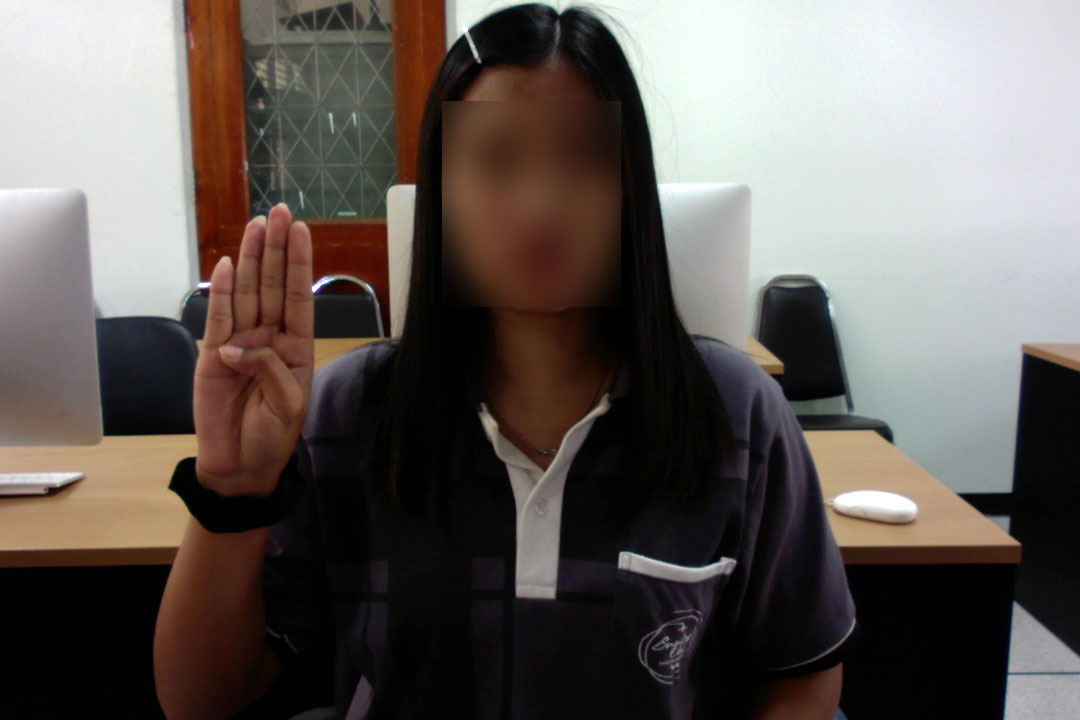bor: (186, 198, 321, 500)
